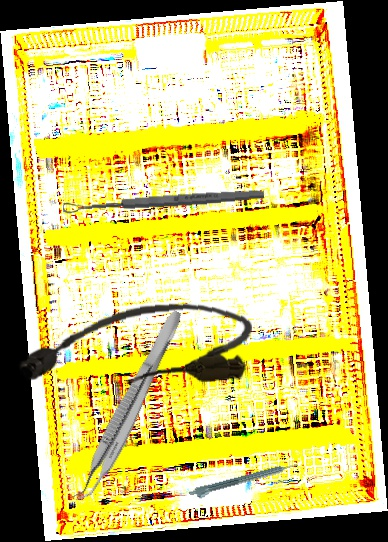Cannula: (13, 296, 256, 396)
Handpiece: (188, 460, 300, 503)
Surgical Spoon: (62, 187, 265, 215)
Tissue Forceps: (69, 303, 186, 509)
